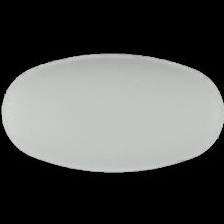35356-666: (0, 0, 224, 224)
